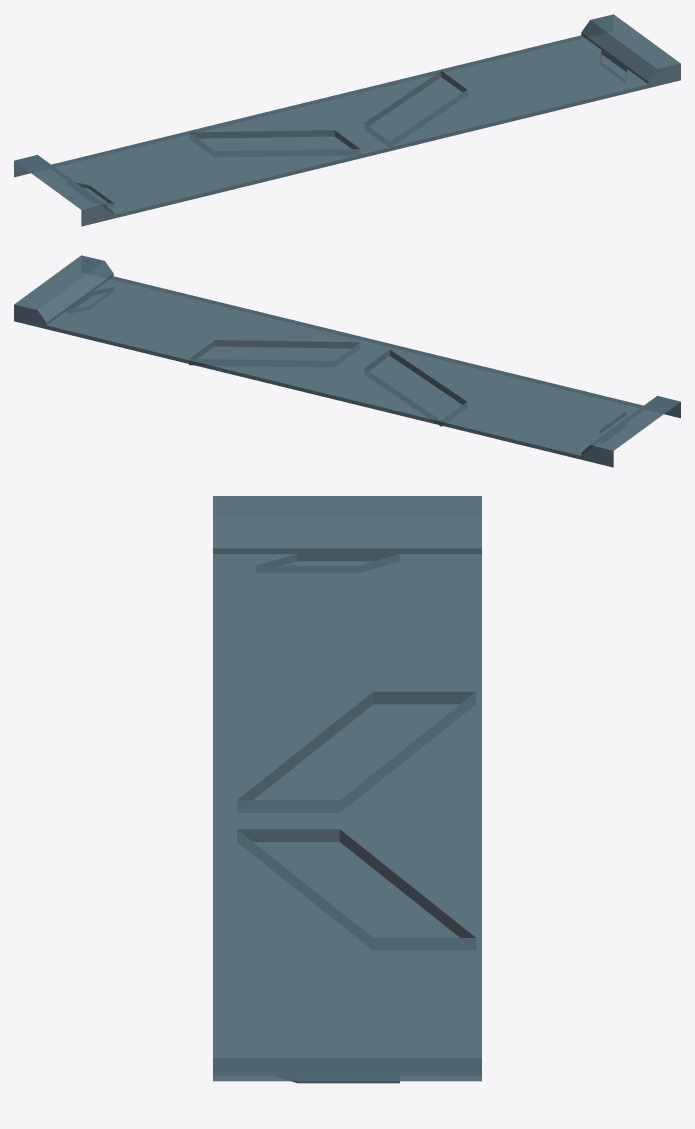
File: FrameRoadTextureTest 1.fbx
3 views of the same model, one above another, from view 1: azimuth 30°, elevation 25°; view 2: azimuth 150°, elevation 25°; view 3: azimuth 270°, elevation 25° (orthographic). The views are drawn at different scales.
Parts seen in each view (by area): view 1: FrameRoadTextureTest; view 2: FrameRoadTextureTest; view 3: FrameRoadTextureTest.
Boxes of the visible parts, left/top/right/bottom form: FrameRoadTextureTest: left=14, top=14, right=680, bottom=226; FrameRoadTextureTest: left=14, top=255, right=680, bottom=467; FrameRoadTextureTest: left=213, top=496, right=481, bottom=1083.
Bounding box in the file's own units: 5148 × 161 × 1000.
